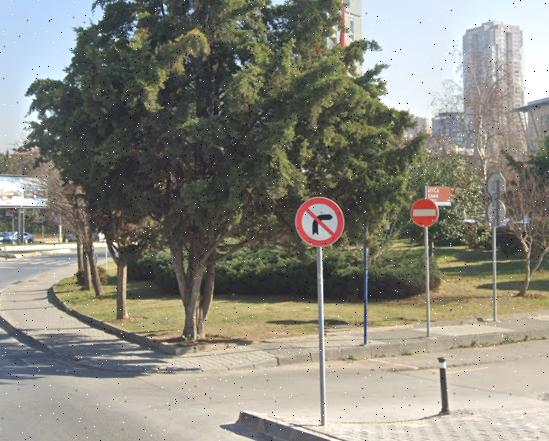rightturnsareforbidden: (296, 196, 343, 250)
